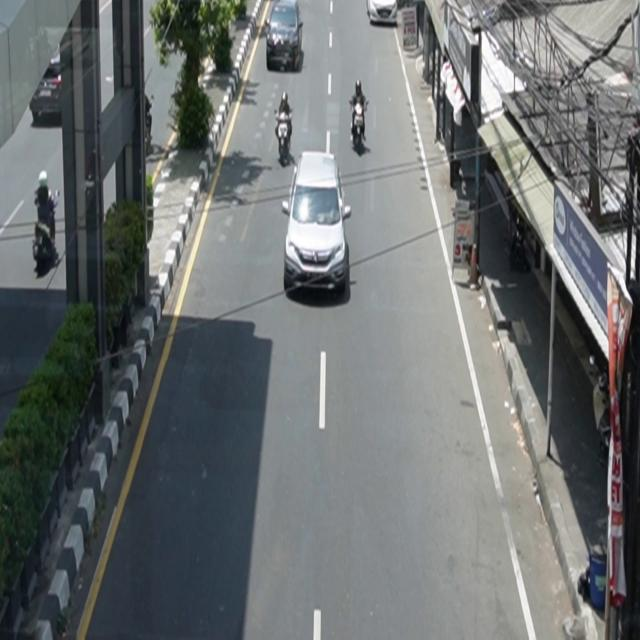car: (283, 151, 353, 295), (266, 1, 304, 72), (367, 1, 399, 26)
